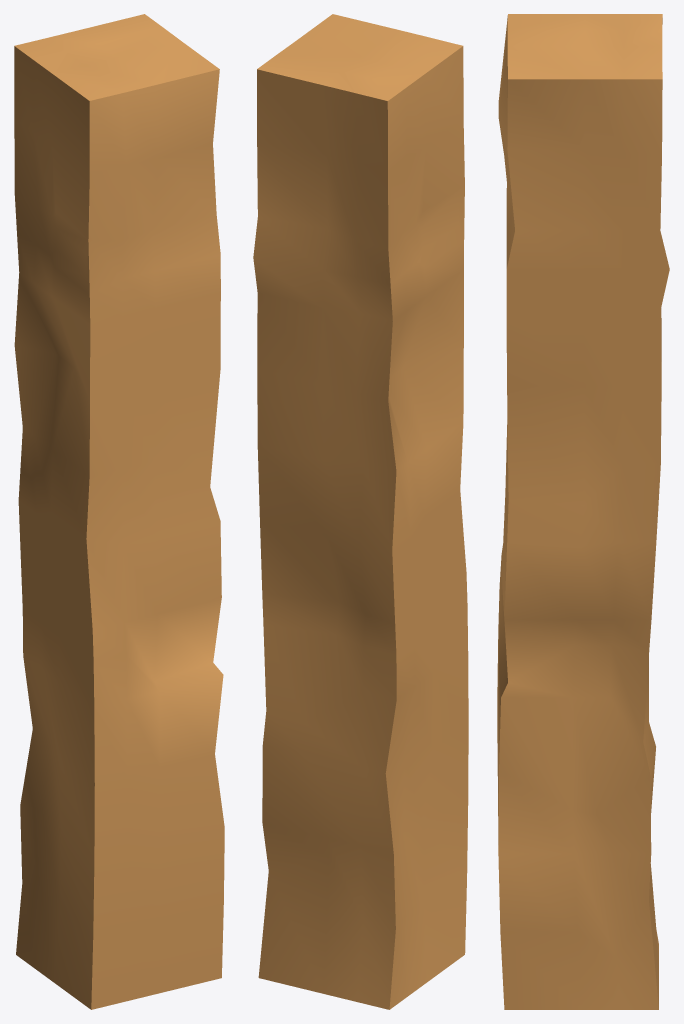
The model's file is Pillar2.fbx.
The picture shows the model from 3 angles, left to right: view 1: azimuth 30°, elevation 25°; view 2: azimuth 150°, elevation 25°; view 3: azimuth 270°, elevation 25°; orthographic projection. The views are drawn at different scales.
Visible parts, largest first — view 1: Cube.007; view 2: Cube.007; view 3: Cube.007.
Part boxes in pixels (bbox=[...]): Cube.007: bbox=[14, 14, 224, 1009]; Cube.007: bbox=[253, 14, 468, 1009]; Cube.007: bbox=[497, 14, 669, 1009].
Bounding box in the file's own units: 216 × 1328 × 223.
